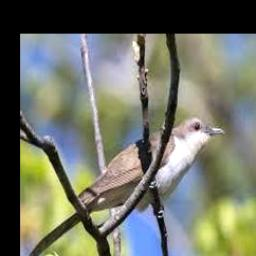Cuckoo: (24, 117, 224, 256)
